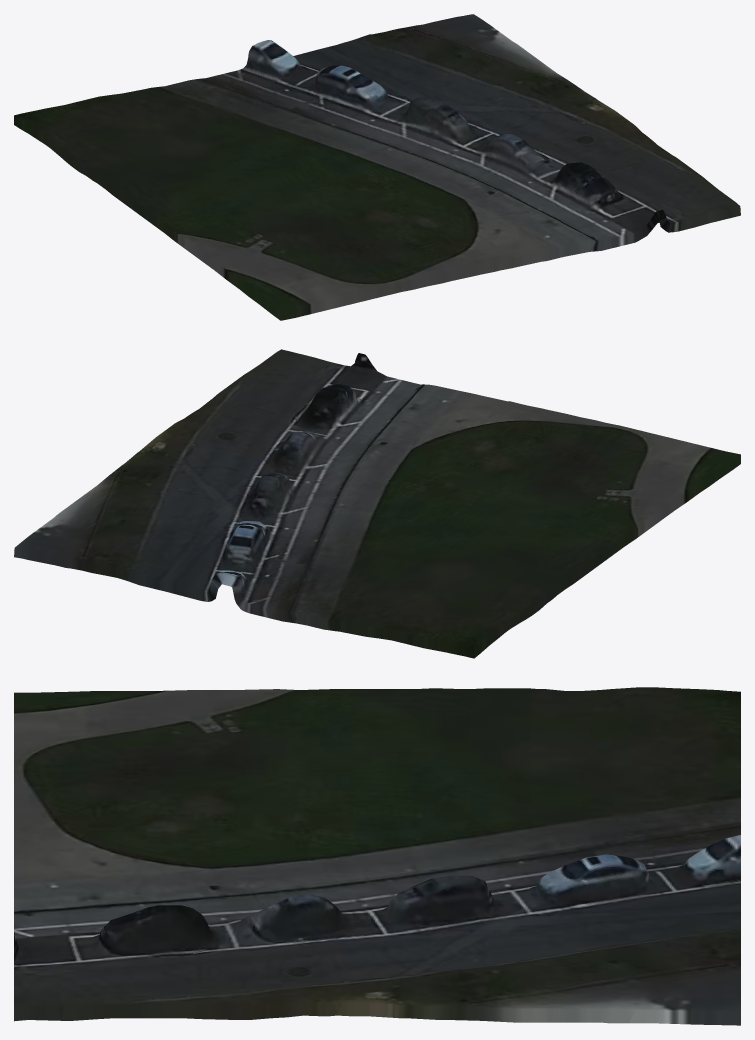
The model's file is z20-167782-405217-h0-yup-uvflip-v3-world.glb.
The picture shows the model from 3 angles, top to bottom: view 1: azimuth 30°, elevation 25°; view 2: azimuth 150°, elevation 25°; view 3: azimuth 270°, elevation 25°; orthographic projection. The views are drawn at different scales.
Bounding box in the file's own units: 30.2 × 2.32 × 30.32.
1 material, 1 textured.
